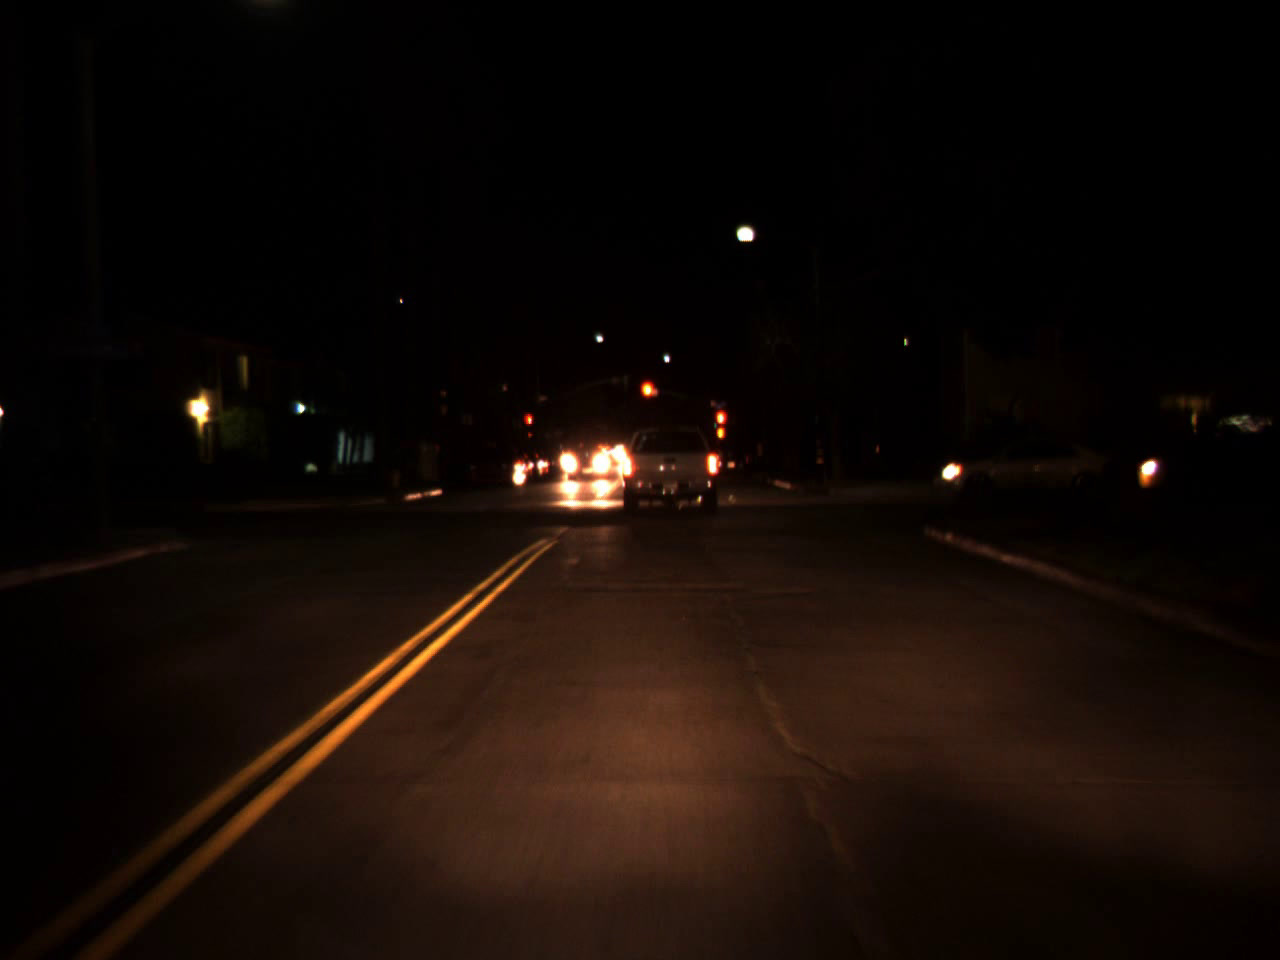stop: (638, 378, 659, 415), (713, 407, 728, 442), (524, 411, 533, 438)
